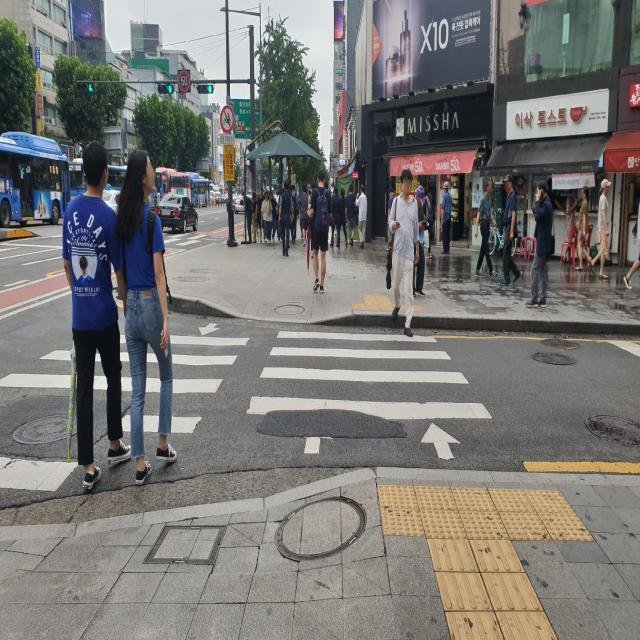횡단보도: (0, 320, 495, 496)
